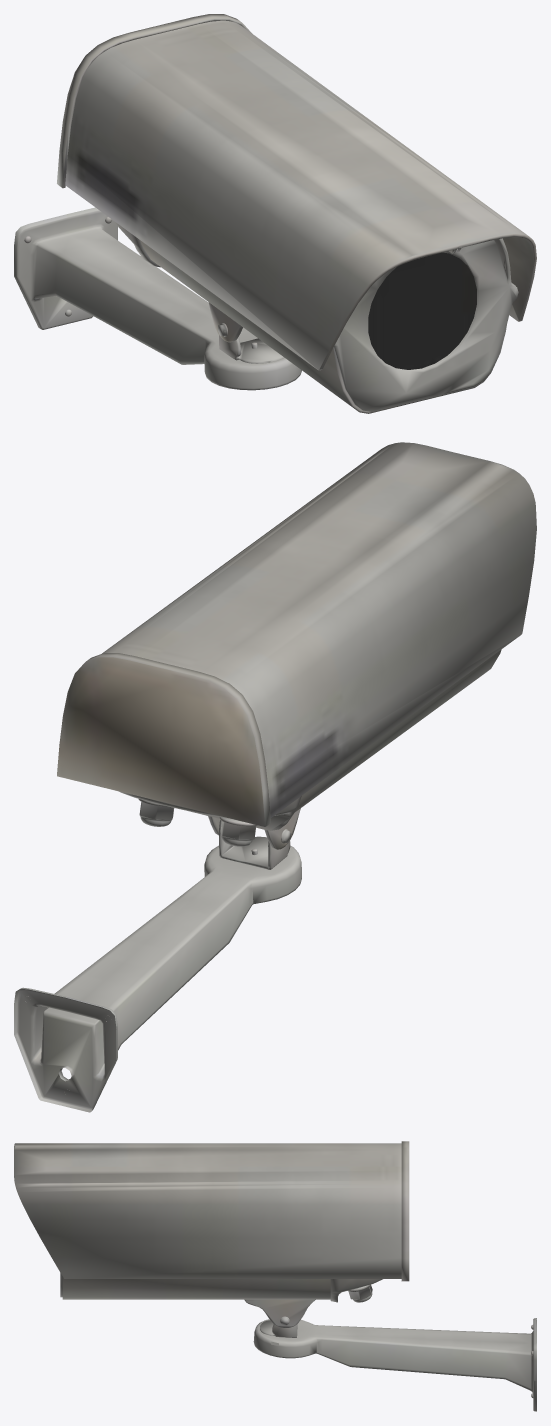
The model's file is camera.glb.
The picture shows the model from 3 angles, top to bottom: view 1: azimuth 30°, elevation 25°; view 2: azimuth 150°, elevation 25°; view 3: azimuth 270°, elevation 25°; orthographic projection. The views are drawn at different scales.
Visible parts, largest first — view 1: security_camera_01; view 2: security_camera_01; view 3: security_camera_01.
Boxes of the visible parts, x1,y1,x2,y2 form: security_camera_01: (14,14,536,413); security_camera_01: (14,442,536,1112); security_camera_01: (14,1141,536,1411).
Bounding box in the file's own units: 0.1695 × 0.2861 × 0.5537.
Materials: 2 (2 with a texture image).
